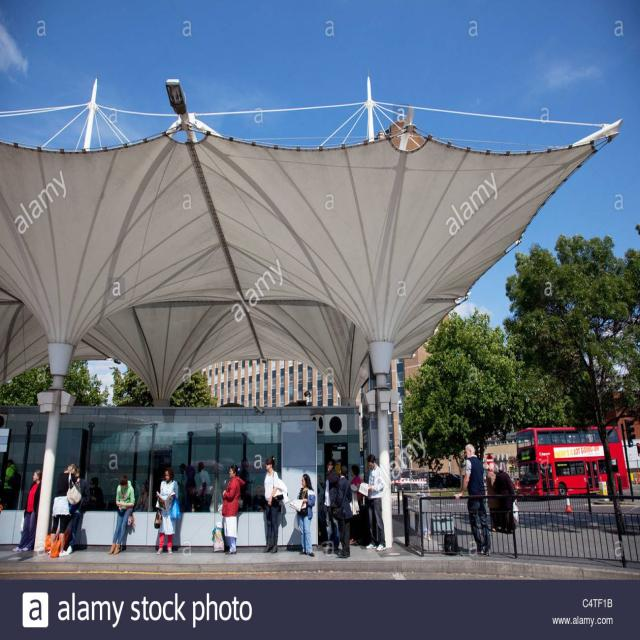body: (488, 427, 624, 528), (98, 464, 263, 504), (452, 442, 492, 558), (47, 466, 91, 556), (10, 467, 45, 553), (47, 462, 78, 558), (154, 466, 182, 556), (106, 472, 136, 556), (220, 462, 246, 556), (364, 452, 388, 552), (316, 457, 341, 549), (262, 455, 284, 555), (293, 471, 316, 558), (335, 464, 353, 560), (348, 463, 364, 545), (3, 458, 21, 510), (239, 457, 253, 512), (86, 476, 105, 511), (178, 462, 189, 514), (251, 484, 267, 512), (196, 461, 212, 488), (136, 482, 149, 513)
